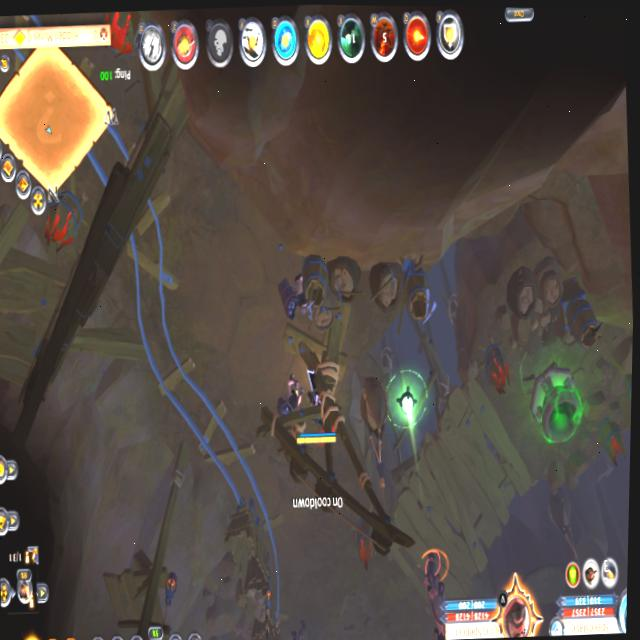ore: (413, 544, 461, 640), (272, 257, 311, 329), (273, 371, 309, 440), (283, 614, 314, 640)
red: (292, 356, 341, 448)
